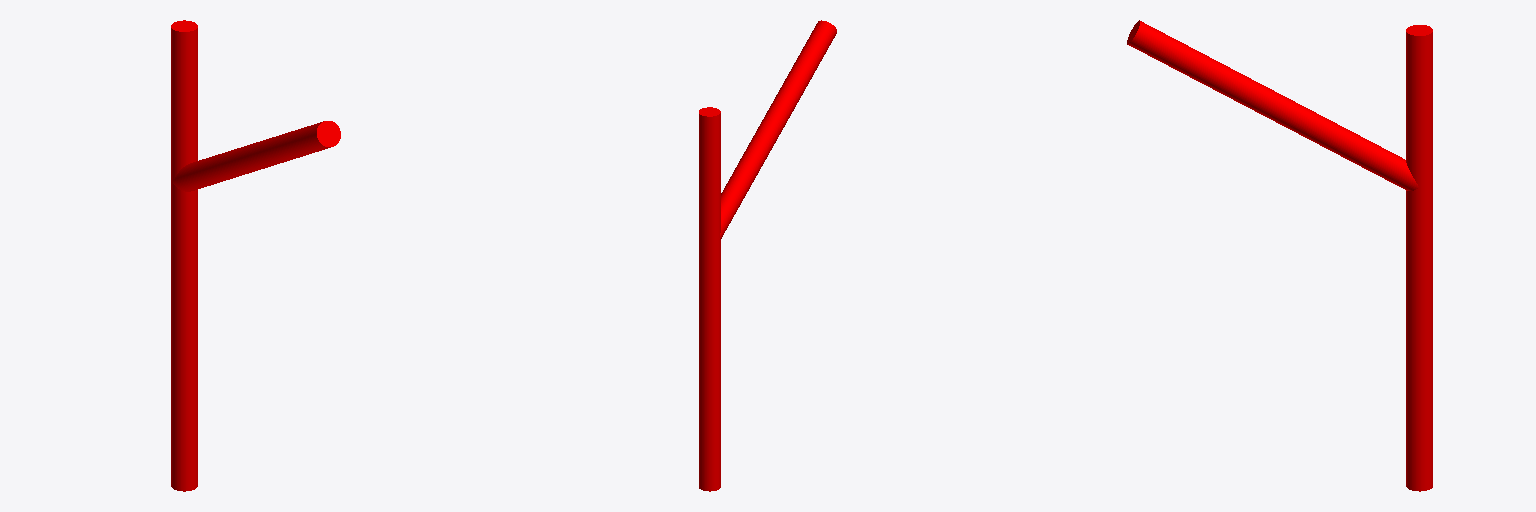
robot.urdf — tree.urdf:
<?xml version="1.0" ?>
<robot name="tree.urdf">
  <link name="baseLink">
    <inertial>
      <origin rpy="0 0 0" xyz="0 0 0"/>
       <mass value=".1"/>
       <inertia ixx="1" ixy="0" ixz="0" iyy="1" iyz="0" izz="1"/>
    </inertial>
    <contact>
      <lateral_friction value="1.0"/>
      <inertia_scaling value="3.0"/>
    </contact>
    <visual>
      <origin rpy="0 0 0" xyz="0 0 0"/>
      <geometry>
        <mesh filename="16.stl" scale="1 1 1" />
      </geometry>
      <material name="red">
        <color rgba="1 0 0 1"/>
      </material>
    </visual>
    <collision>
      <origin rpy="0 0 0" xyz="0 0 0"/>
      <geometry>
        <mesh filename="16_convex.obj" scale="1 1 1" />
      </geometry>
    </collision>
  </link>
</robot>

--- Facts derived from the render (not from the file) ---
The picture shows the robot from 3 angles, left to right: view 1: azimuth 30°, elevation 25°; view 2: azimuth 150°, elevation 25°; view 3: azimuth 270°, elevation 25°; orthographic projection.
Robot: tree.urdf — 1 links, 0 joints (none); root link baseLink; default pose: every joint at zero.
Visible links, largest first — view 1: baseLink; view 2: baseLink; view 3: baseLink.
Link boxes in pixels (left/top/right/bottom): baseLink: left=171, top=20, right=340, bottom=491; baseLink: left=699, top=20, right=836, bottom=491; baseLink: left=1127, top=20, right=1432, bottom=491.
Bounding box of the posed robot: 0.0134 × 0.1524 × 0.2547 m (x, y, z).
Meshes: 1 distinct files referenced, 1 mesh visuals loaded (1 binary STL).